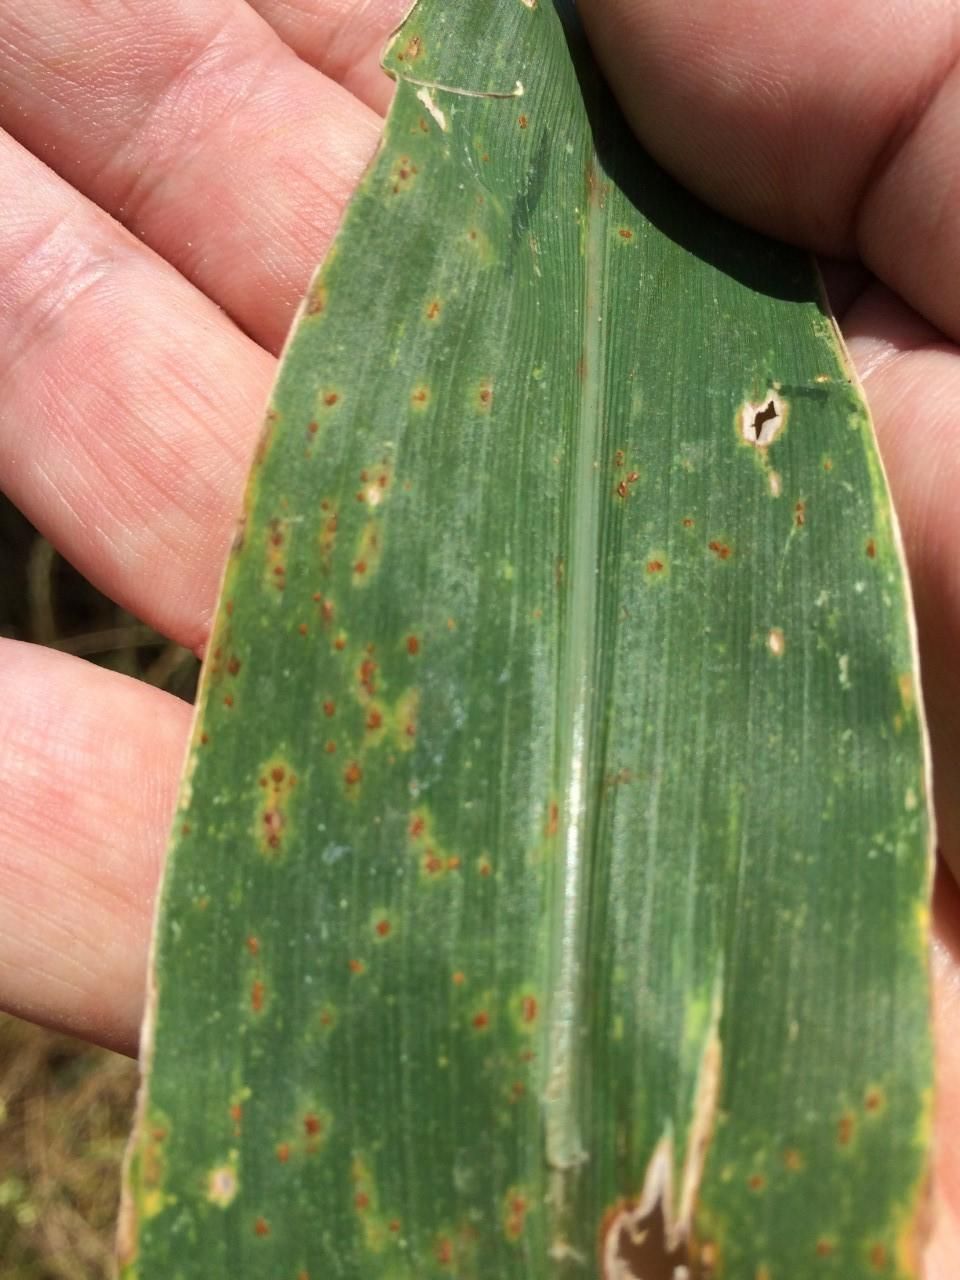Corn rust leaf: (135, 4, 946, 1280)
